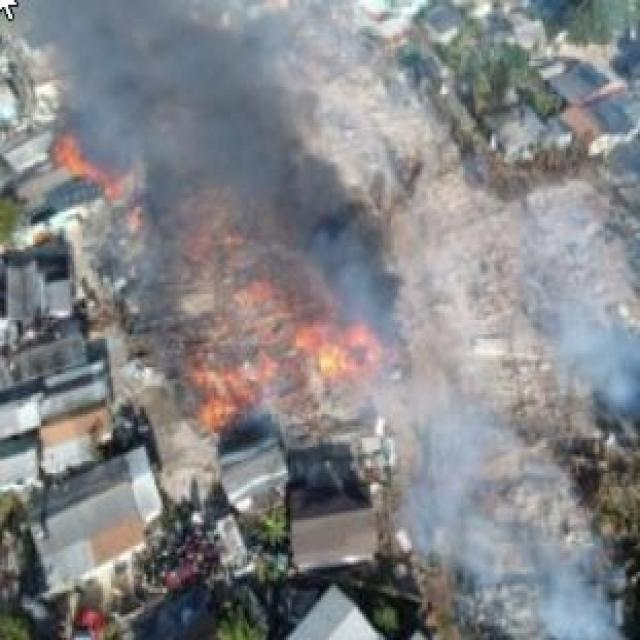Fire: (103, 146, 364, 414)
